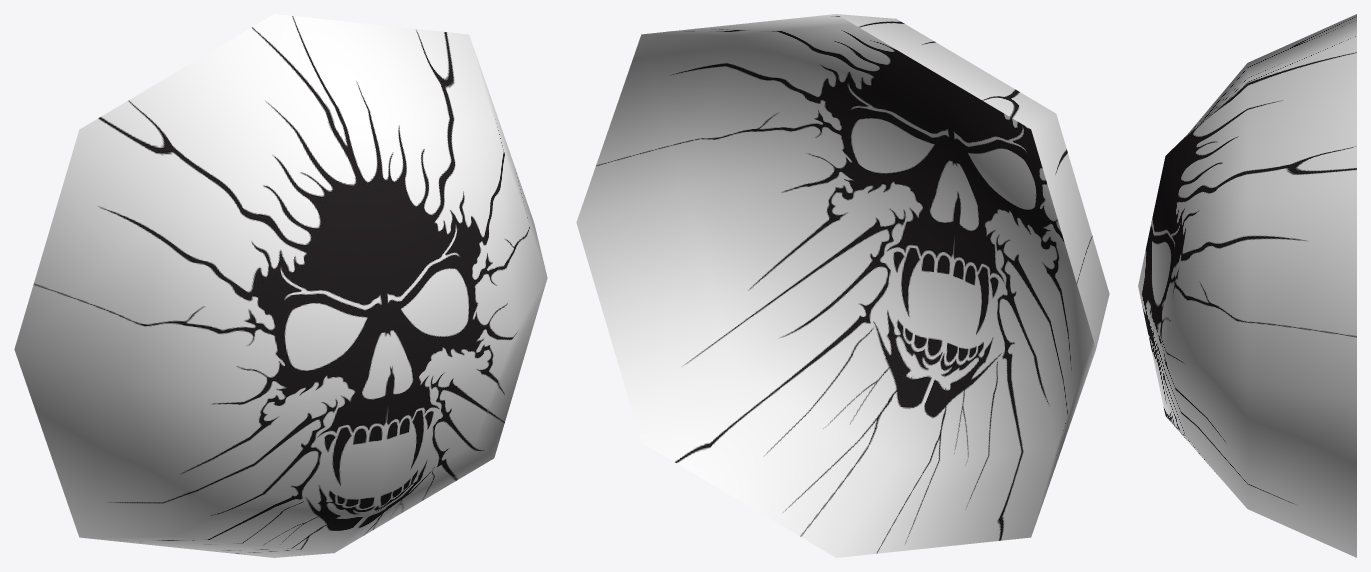
Rendered from bianyuan.FBX.
The picture shows the model from 3 angles, left to right: view 1: azimuth 30°, elevation 25°; view 2: azimuth 150°, elevation 25°; view 3: azimuth 270°, elevation 25°; orthographic projection. The views are drawn at different scales.
Visible parts, largest first — view 1: bianyuan; view 2: bianyuan; view 3: bianyuan.
Boxes of the visible parts, x1,y1,x2,y2 form: bianyuan: [14, 14, 547, 557]; bianyuan: [576, 14, 1109, 557]; bianyuan: [1138, 14, 1356, 557].
Bounding box in the file's own units: 78.06 × 31.29 × 78.06.
